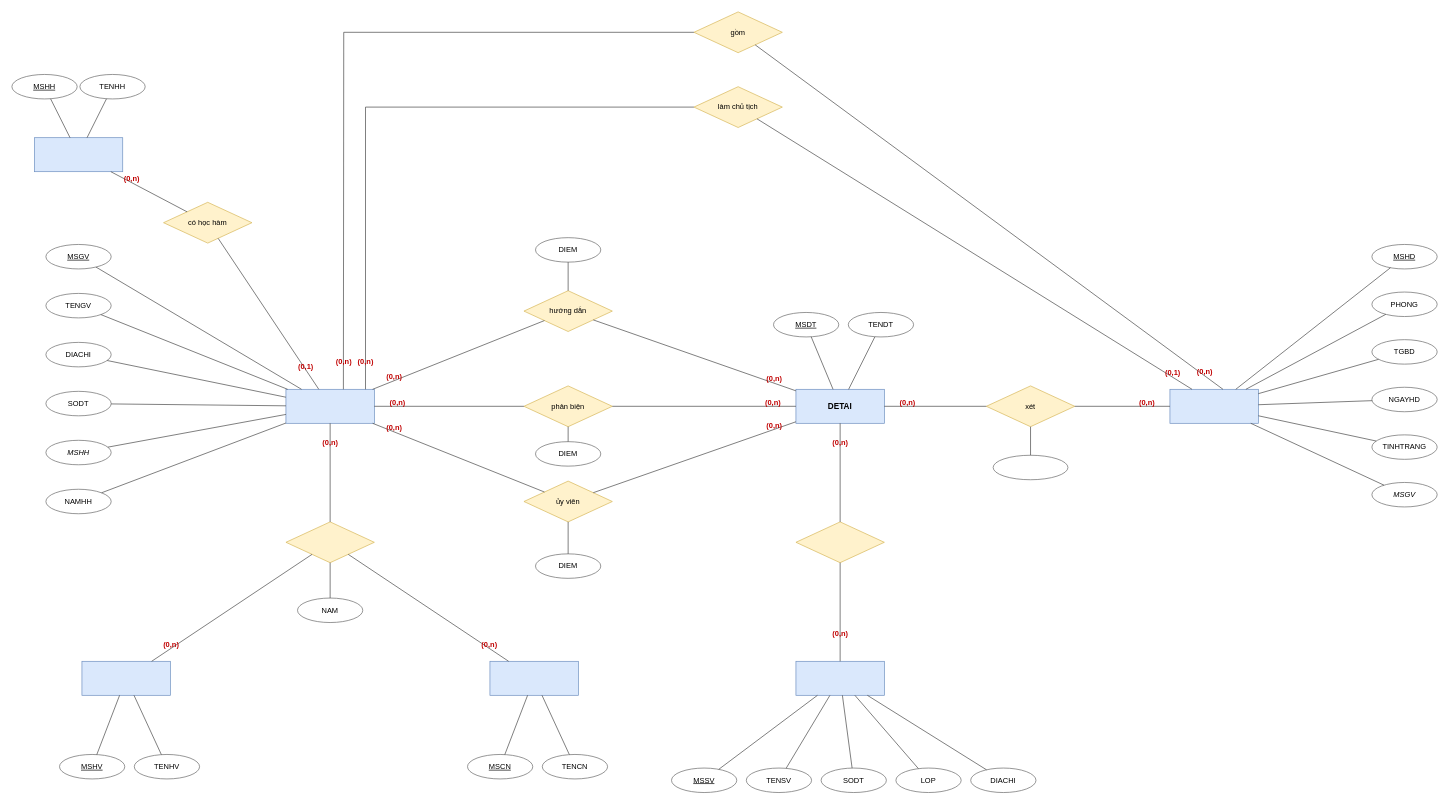
The diagram is 1449 pixels wide and 804 high, and some of its shapes have lost their labels. The centre of each missing label's shape, as x and y in pixels:
"CHUYENNGANH" goes at point 533,678.
"GIAOVIEN" goes at point 329,406.
"HOCHAM" goes at point 78,154.
"HOCVI" goes at point 125,678.
"HOIDONG" goes at point 1213,406.
"QUYETDINH" goes at point 1030,467.
"SINHVIEN" goes at point 839,678.
"thực hiện" goes at point 839,542.
"đạt" goes at point 329,542.
